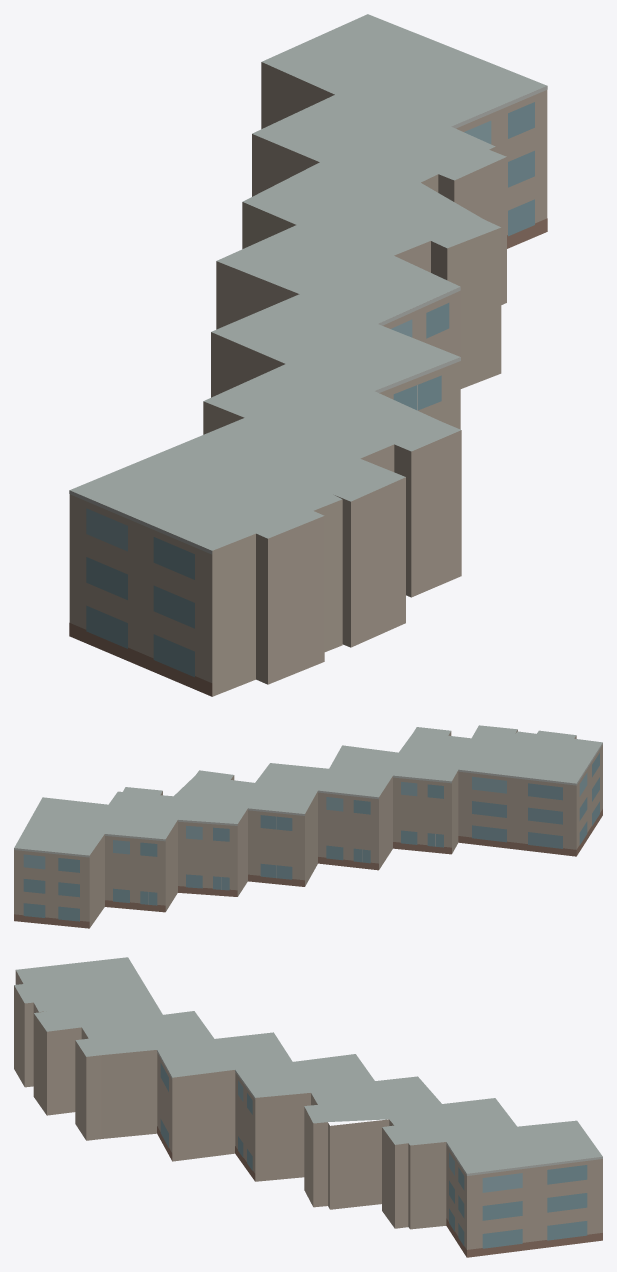
File: survey-upis-32590703.glb
3 renders of one model, top to bottom at view 1: azimuth 30°, elevation 25°; view 2: azimuth 150°, elevation 25°; view 3: azimuth 270°, elevation 25°, orthographic. The views are drawn at different scales.
Parts seen in each view (by area): view 1: survey-upis-32590703.tmp; view 2: survey-upis-32590703.tmp; view 3: survey-upis-32590703.tmp.
Boxes of the visible parts, x1=… form: survey-upis-32590703.tmp: x1=69, y1=14, x2=547, y2=696; survey-upis-32590703.tmp: x1=14, y1=725, x2=602, y2=928; survey-upis-32590703.tmp: x1=14, y1=957, x2=602, y2=1257.
Bounding box in the file's own units: 50.69 × 9.15 × 58.23.
